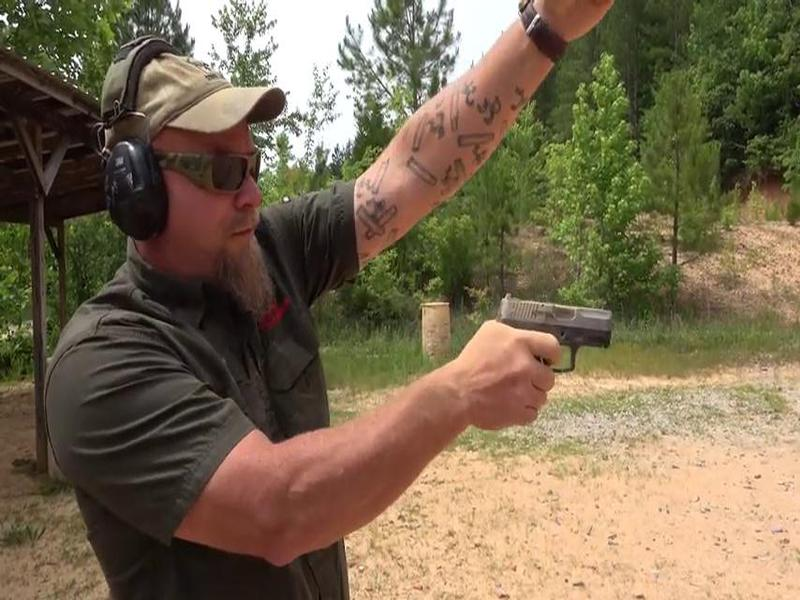Pistola: (477, 269, 633, 438)
